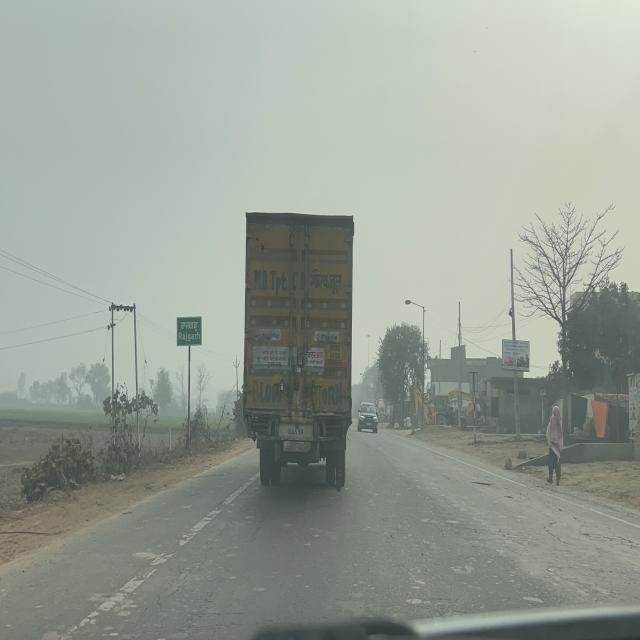GENERAL: (176, 317, 202, 347)
